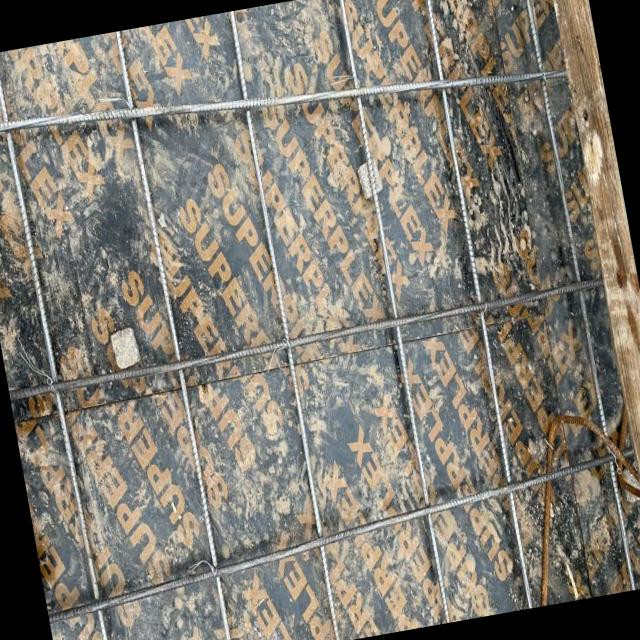ribbed bar: (36, 443, 640, 624), (0, 18, 570, 181), (331, 0, 454, 622), (223, 10, 344, 640), (6, 275, 606, 402), (414, 0, 539, 608), (112, 30, 234, 640), (515, 0, 635, 590), (0, 50, 115, 640)
